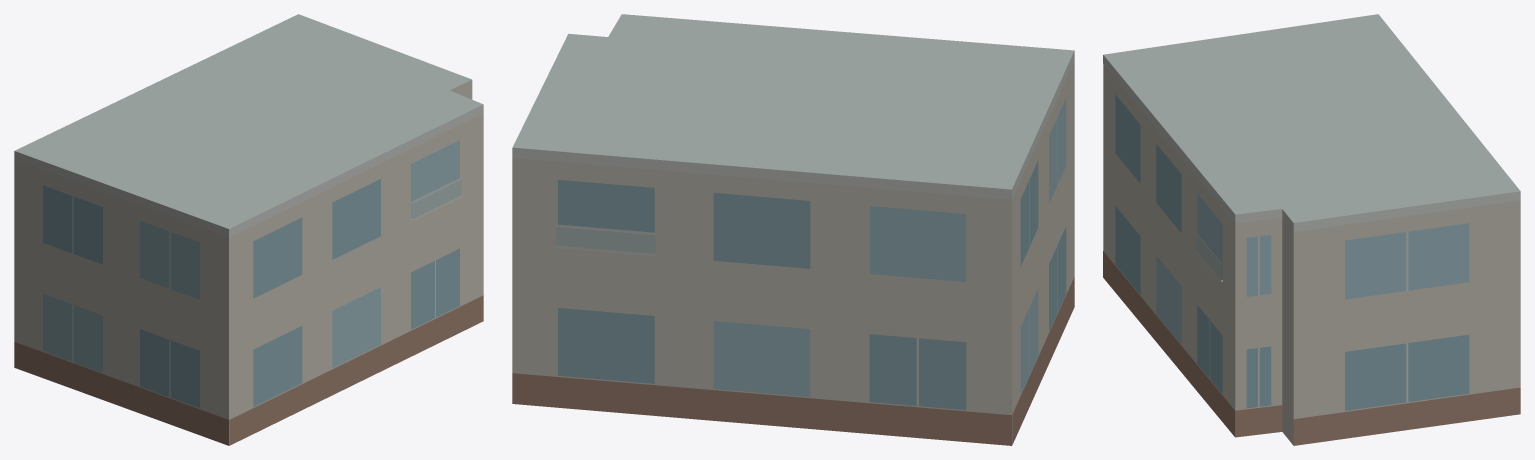
File: survey-upis-32658874.glb
The picture shows the model from 3 angles, left to right: view 1: azimuth 30°, elevation 25°; view 2: azimuth 150°, elevation 25°; view 3: azimuth 270°, elevation 25°; orthographic projection. The views are drawn at different scales.
Visible parts, largest first — view 1: survey-upis-32658874.tmp; view 2: survey-upis-32658874.tmp; view 3: survey-upis-32658874.tmp.
Part boxes in pixels (x1=…): survey-upis-32658874.tmp: x1=14, y1=14, x2=483, y2=445; survey-upis-32658874.tmp: x1=512, y1=14, x2=1074, y2=445; survey-upis-32658874.tmp: x1=1103, y1=14, x2=1520, y2=445.
Bounding box in the file's own units: 12.28 × 6.1 × 10.37.
